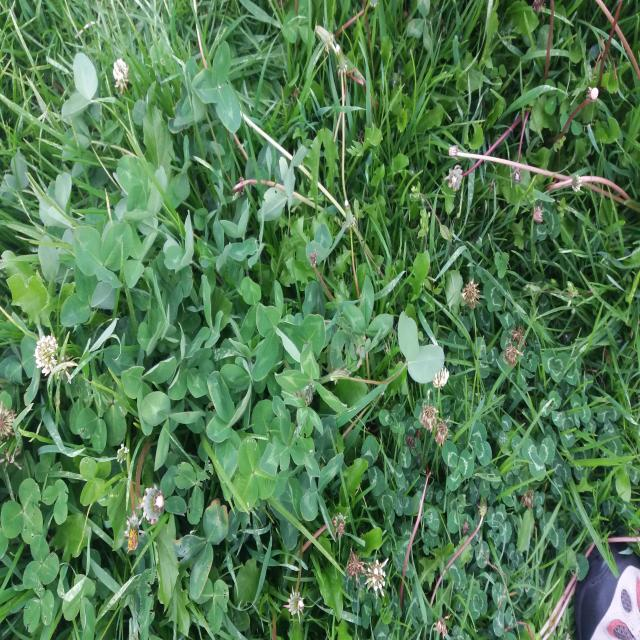Four Leaf Clover: (79, 456, 113, 507)
